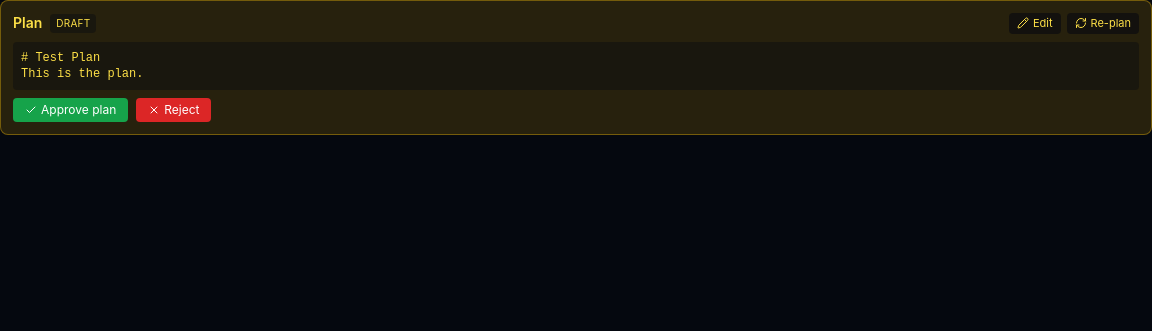
Test: PlanCard › enters edit mode and returns an approved plan to draft on save
Click the button "Edit" at (1035, 23), box [1009,13,1060,34]
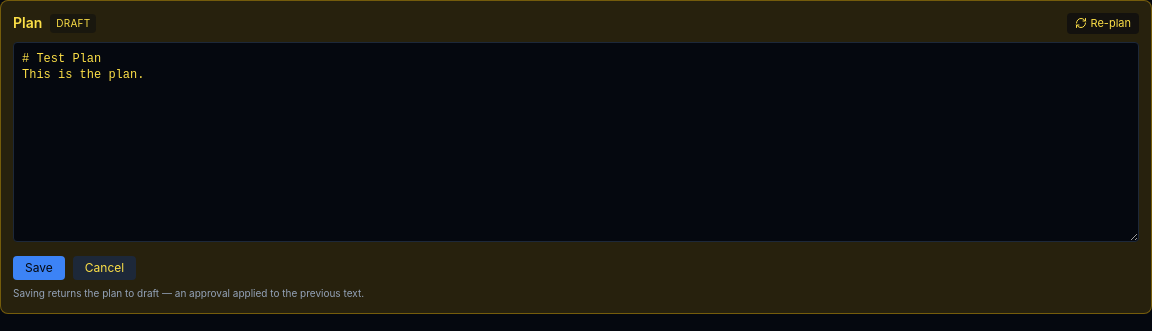
Replace the text in the text box with "# Edited plan" at (576, 142), box [13,42,1139,242]
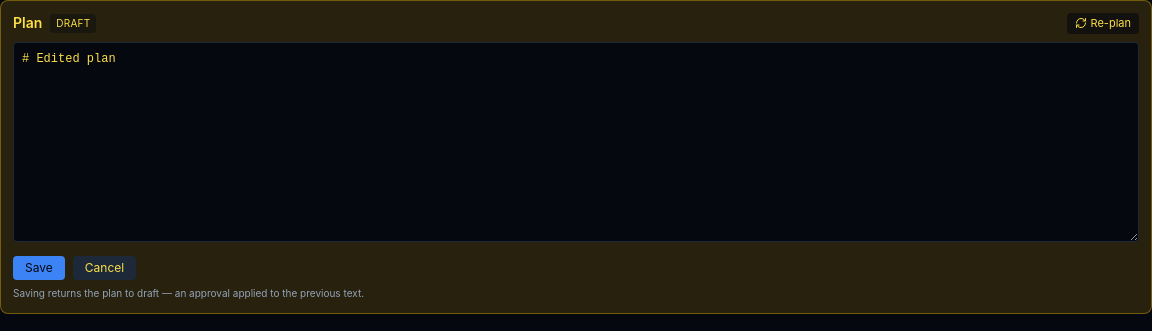
Click the button "Save" at (39, 268), box [13,256,65,280]
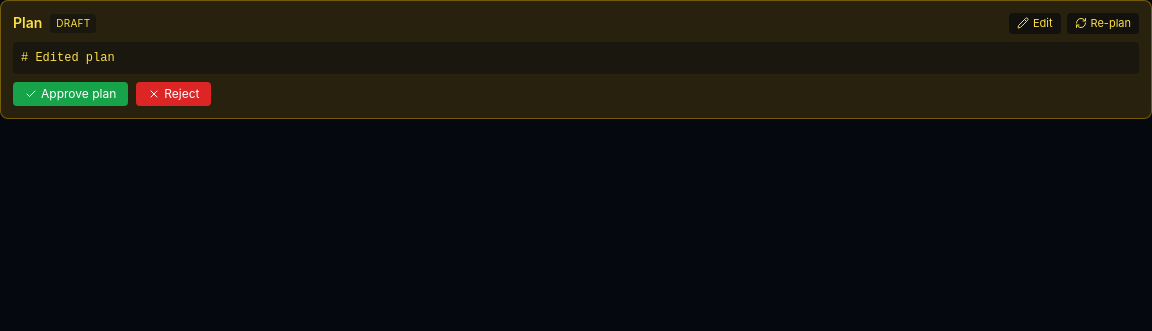
Expected: the text "# Edited plan" is shown, [13,42,1139,74]
